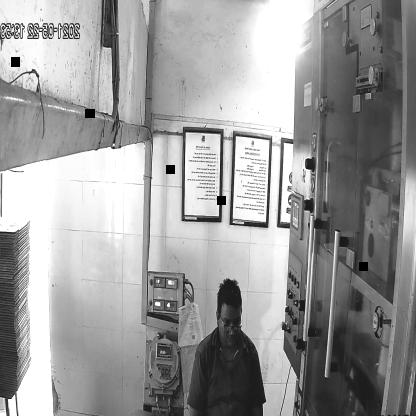goggles: (218, 312, 245, 338)
